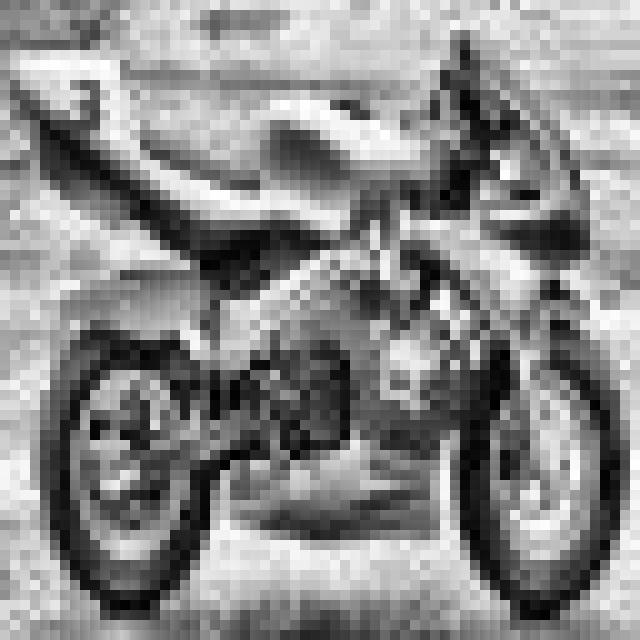mopeds: (2, 37, 628, 621)
